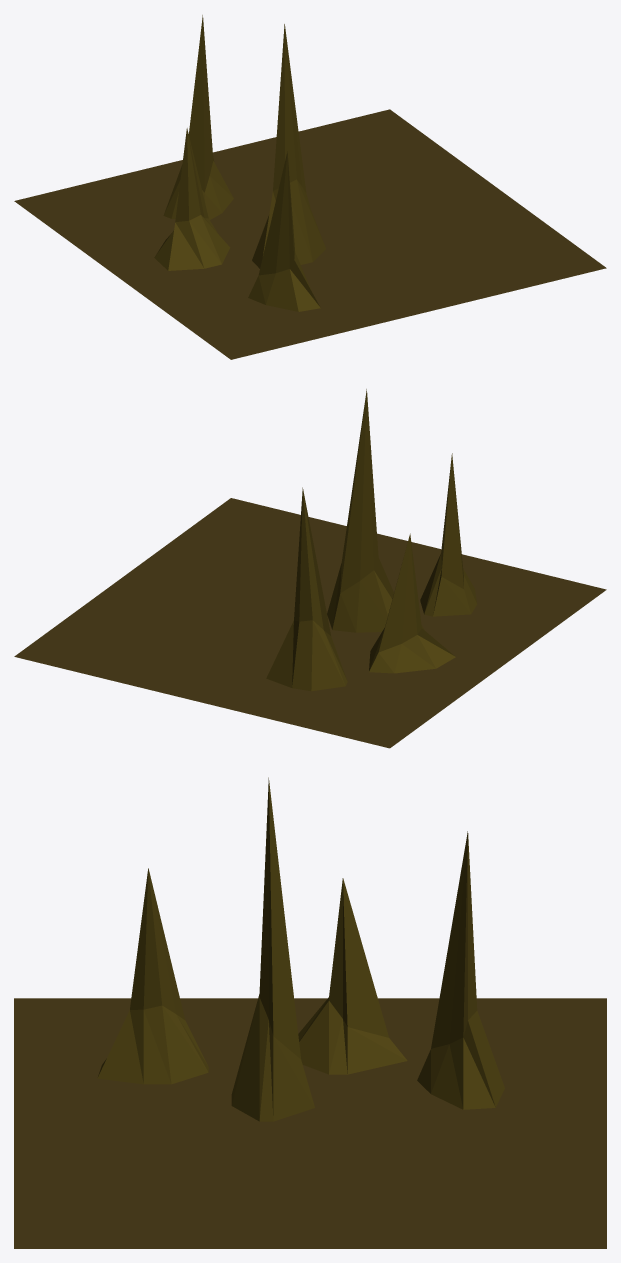
Rendered from obj_trap_4_0.obj.
3 renders of one model, top to bottom at view 1: azimuth 30°, elevation 25°; view 2: azimuth 150°, elevation 25°; view 3: azimuth 270°, elevation 25°, orthographic. The views are drawn at different scales.
Size of the model in its own units: 1 by 0.5938 by 1.
